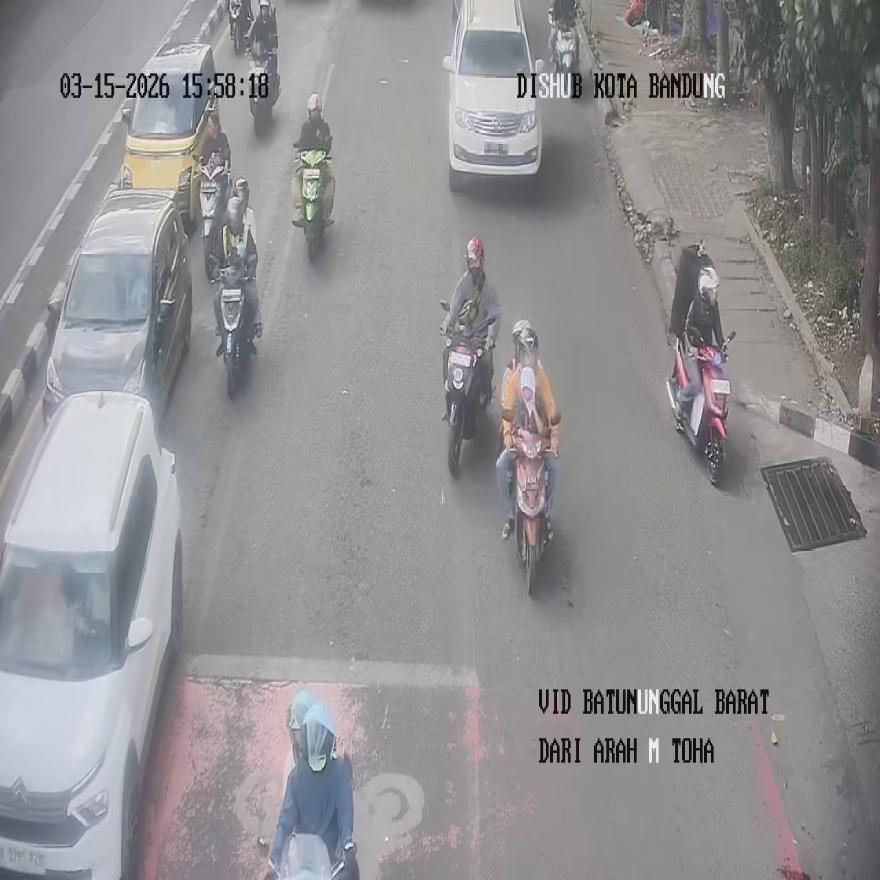Mobil: (0, 392, 183, 877), (41, 185, 192, 430), (121, 42, 219, 232), (443, 0, 542, 187)
Motor: (668, 331, 731, 484), (443, 321, 492, 478), (509, 434, 551, 596), (216, 265, 256, 400), (295, 146, 333, 261), (262, 830, 346, 880), (199, 155, 231, 281), (247, 43, 279, 134), (548, 12, 578, 97), (229, 0, 253, 55)
